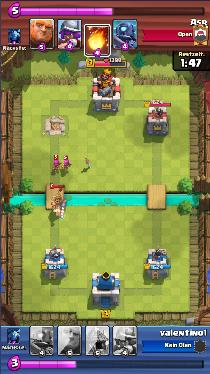enemy_archer: (61, 158, 71, 172), (52, 159, 61, 174)
enemy_prince: (51, 192, 67, 220)
